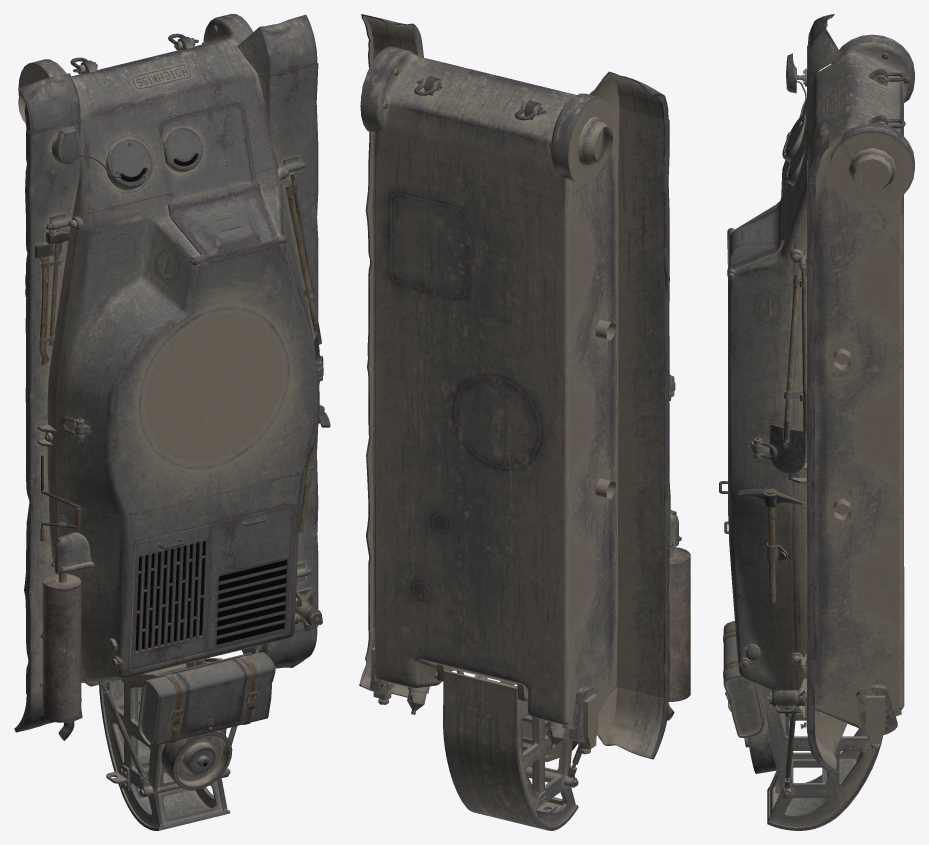
File: Hull.glb
3 renders of one model, left to right at view 1: azimuth 30°, elevation 25°; view 2: azimuth 150°, elevation 25°; view 3: azimuth 270°, elevation 25°, orthographic. The views are drawn at different scales.
Parts seen in each view (by area): view 1: set_0_group_0; view 2: set_0_group_0; view 3: set_0_group_0.
Boxes of the visible parts, left/top/right/bottom form: set_0_group_0: left=14, top=14, right=330, bottom=830; set_0_group_0: left=359, top=14, right=690, bottom=830; set_0_group_0: left=719, top=14, right=914, bottom=830.
Size of the model in its own units: 1.96 by 4.86 by 1.17.
Materials: 1 (1 with a texture image).
